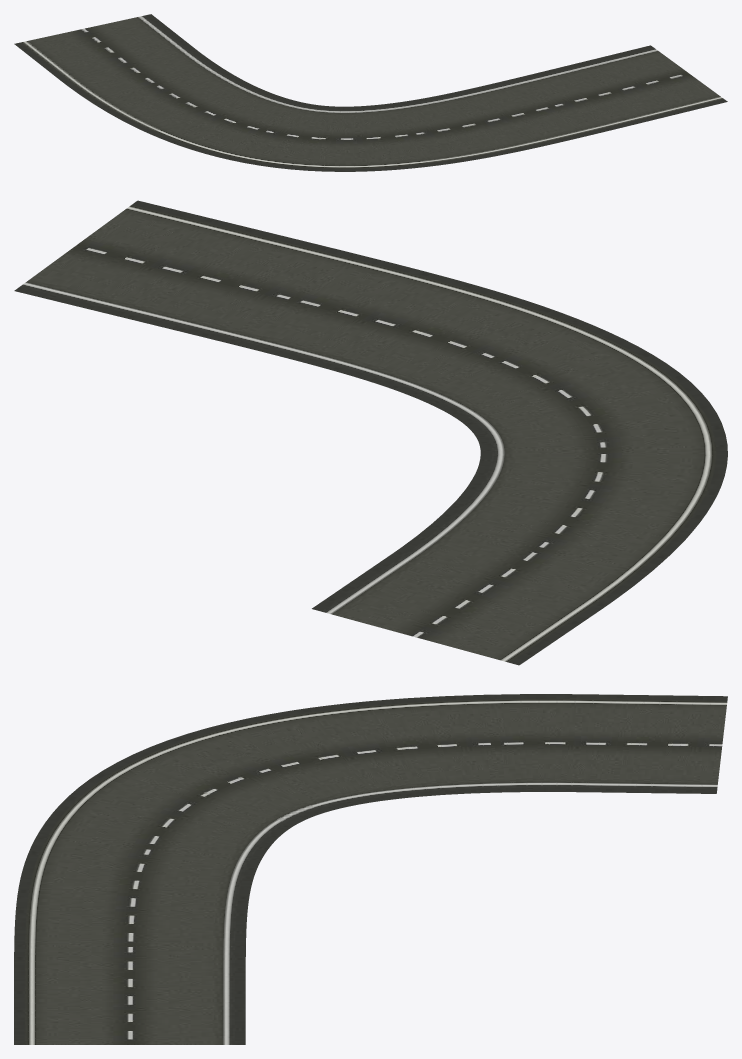
File: road (90 degree turn).fbx
The picture shows the model from 3 angles, top to bottom: view 1: azimuth 30°, elevation 25°; view 2: azimuth 150°, elevation 25°; view 3: azimuth 270°, elevation 25°; orthographic projection. The views are drawn at different scales.
Visible parts, largest first — view 1: Plane; view 2: Plane; view 3: Plane.
Part boxes in pixels (bbox=[...]): Plane: bbox=[14, 14, 727, 171]; Plane: bbox=[14, 200, 727, 665]; Plane: bbox=[14, 694, 727, 1044].
Size of the model in its own units: 717 by 0.000112 by 616.
